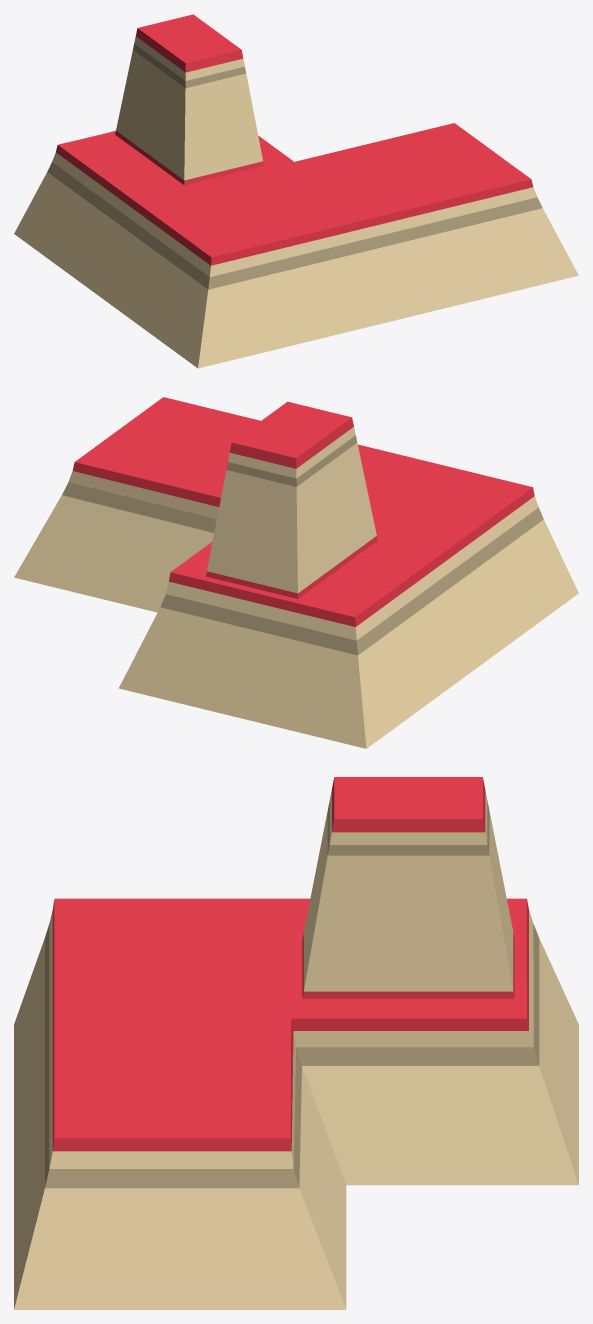
File: House_1.fbx
3 views of the same model, one above another, from view 1: azimuth 30°, elevation 25°; view 2: azimuth 150°, elevation 25°; view 3: azimuth 270°, elevation 25° (orthographic). The views are drawn at different scales.
Visible parts, largest first — view 1: House_1; view 2: House_1; view 3: House_1.
Boxes of the visible parts, left/top/right/bottom form: House_1: left=14, top=14, right=578, bottom=368; House_1: left=14, top=397, right=578, bottom=748; House_1: left=14, top=777, right=578, bottom=1309.
Bounding box in the file's own units: 358 × 185 × 299.
